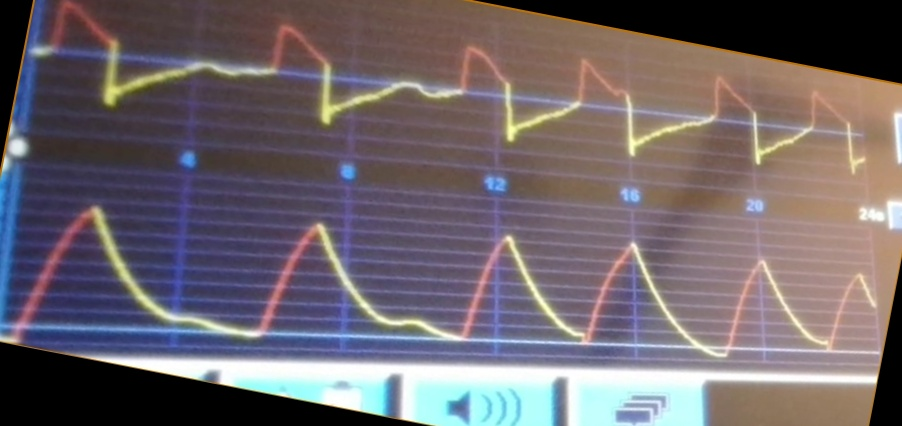Ineffective_effort Flow: (34, 2, 867, 173)
Ineffective_effort Volume: (10, 203, 872, 365)
